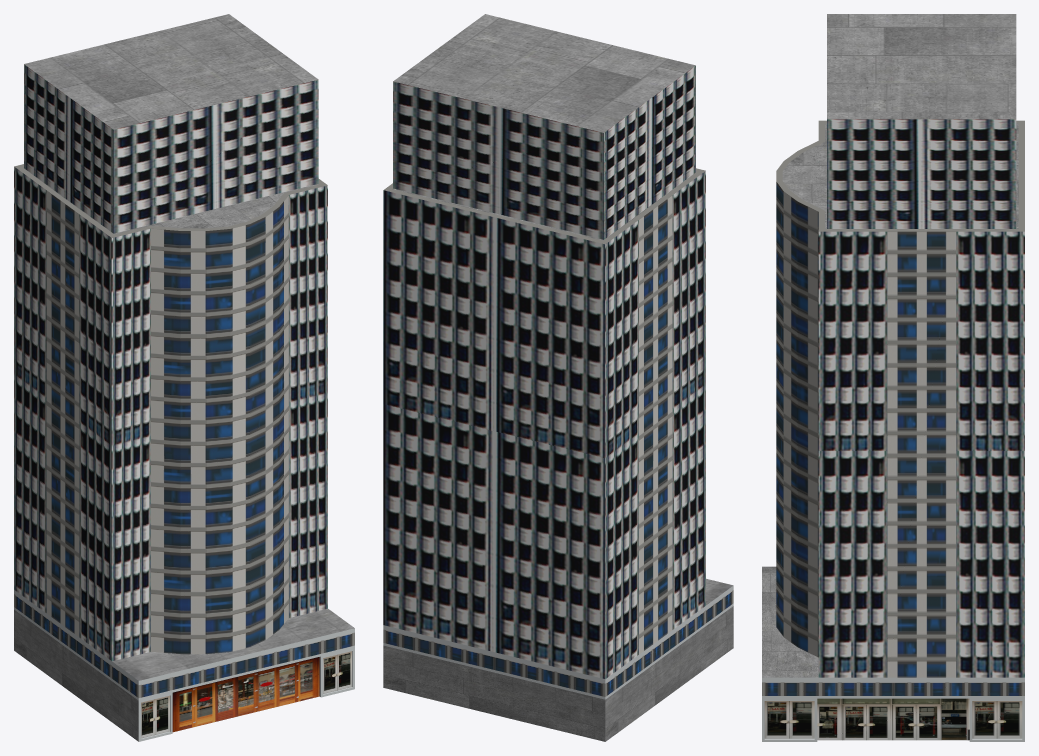
File: building6.FBX
3 views of the same model, side by side, from view 1: azimuth 30°, elevation 25°; view 2: azimuth 150°, elevation 25°; view 3: azimuth 270°, elevation 25° (orthographic). The views are drawn at different scales.
Parts seen in each view (by area): view 1: building6; view 2: building6; view 3: building6.
Part boxes in pixels (x1,y1,x2,y2): building6: (14,14,354,741); building6: (383,14,733,741); building6: (762,14,1024,741).
Size of the model in its own units: 100 by 260 by 100.
